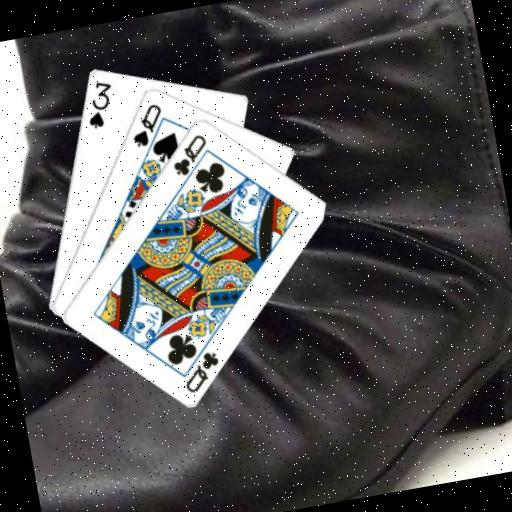3S: (78, 76, 119, 131)
QC: (164, 129, 213, 178), (176, 346, 225, 395)
QS: (124, 98, 169, 149)
